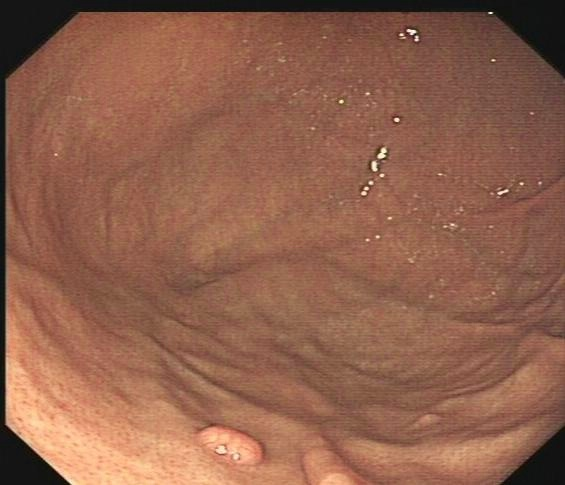Polyp: (193, 421, 270, 473)
